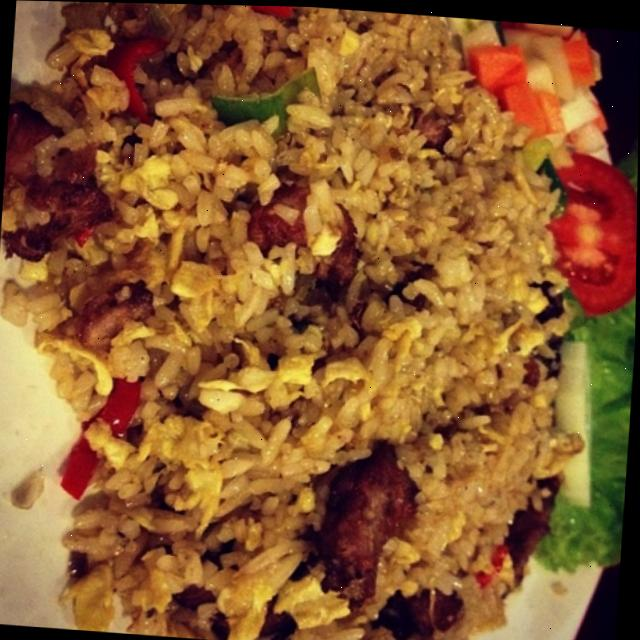米饭主食: (5, 0, 640, 640)
